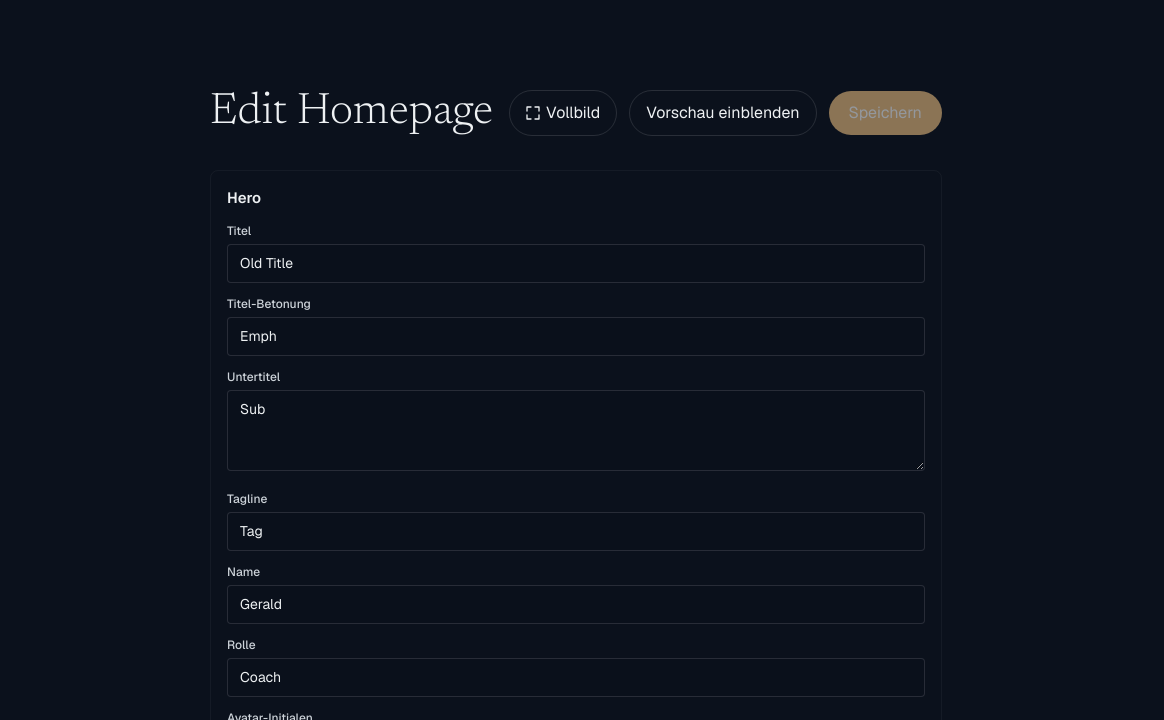
HomepageEditorPage — collapsible live preview › keeps the live preview collapsed by default and reveals it on toggle
Check: the field showing "Old Title" is shown, box left=227, top=244, right=925, bottom=282
Click the button "Vorschau einblenden".
click(723, 113)  # box left=629, top=90, right=816, bottom=136
(page scrolled)
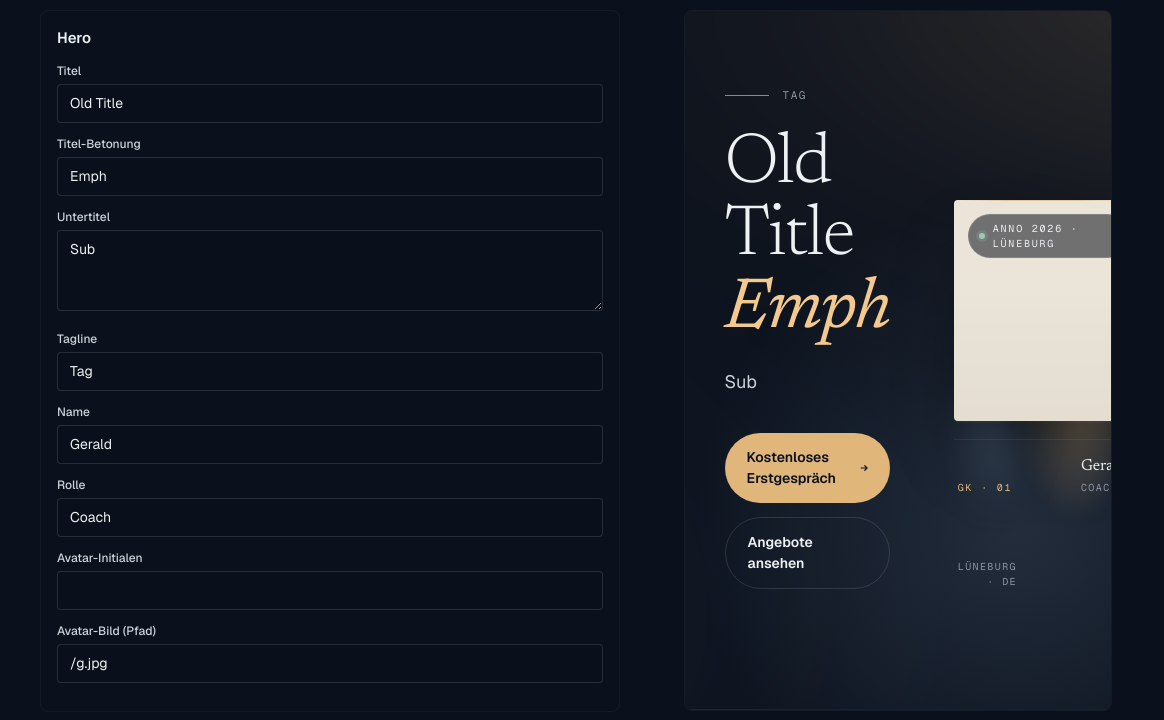
Check: the element named "Hero-Bereich" is shown, box left=685, top=11, right=1111, bottom=710
